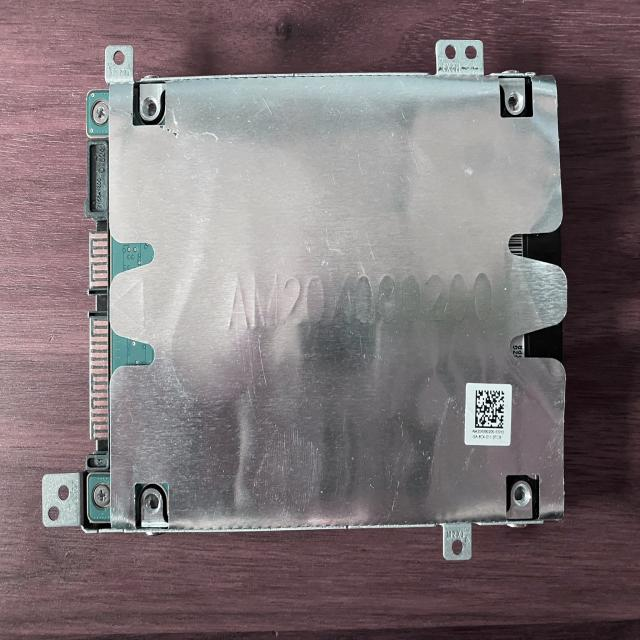PhillipsScrewHead: (92, 100, 110, 126), (94, 482, 110, 510)
